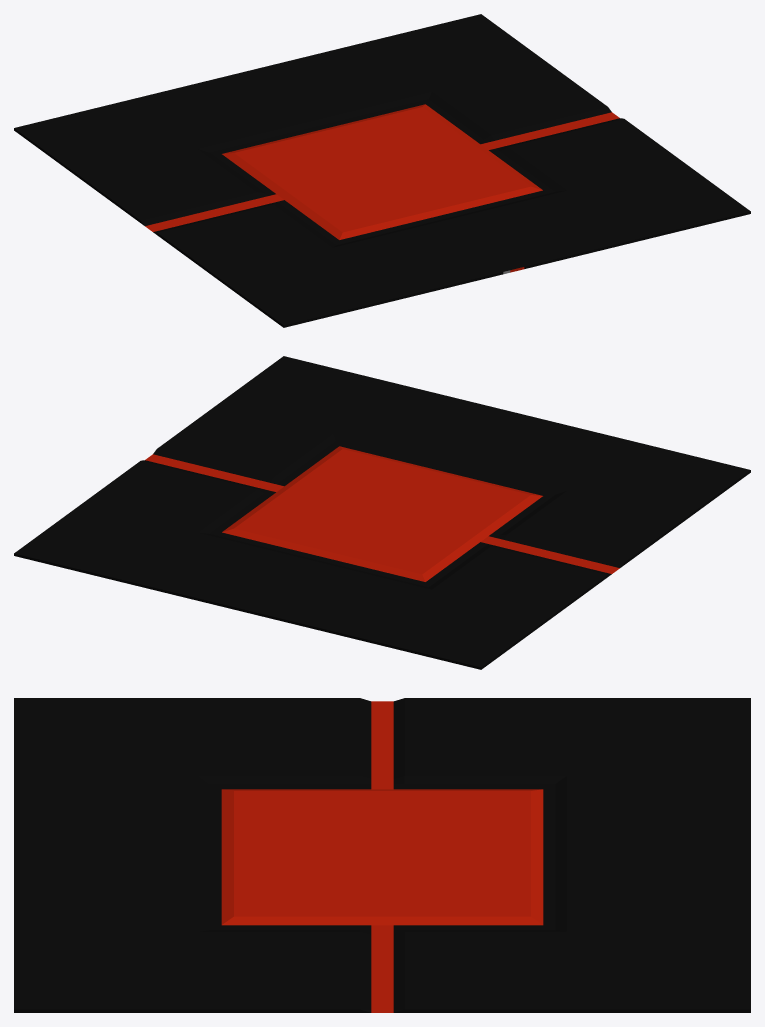
Rendered from S_assete_basement_floor_4.fbx.
3 views of the same model, one above another, from view 1: azimuth 30°, elevation 25°; view 2: azimuth 150°, elevation 25°; view 3: azimuth 270°, elevation 25° (orthographic). The views are drawn at different scales.
Visible parts, largest first — view 1: Plane147; view 2: Plane147; view 3: Plane147.
Part boxes in pixels (x1,y1,x2,y2): Plane147: [14, 14, 750, 327]; Plane147: [14, 356, 750, 669]; Plane147: [14, 698, 750, 1012].
Size of the model in its own units: 200 by 1 by 200.
